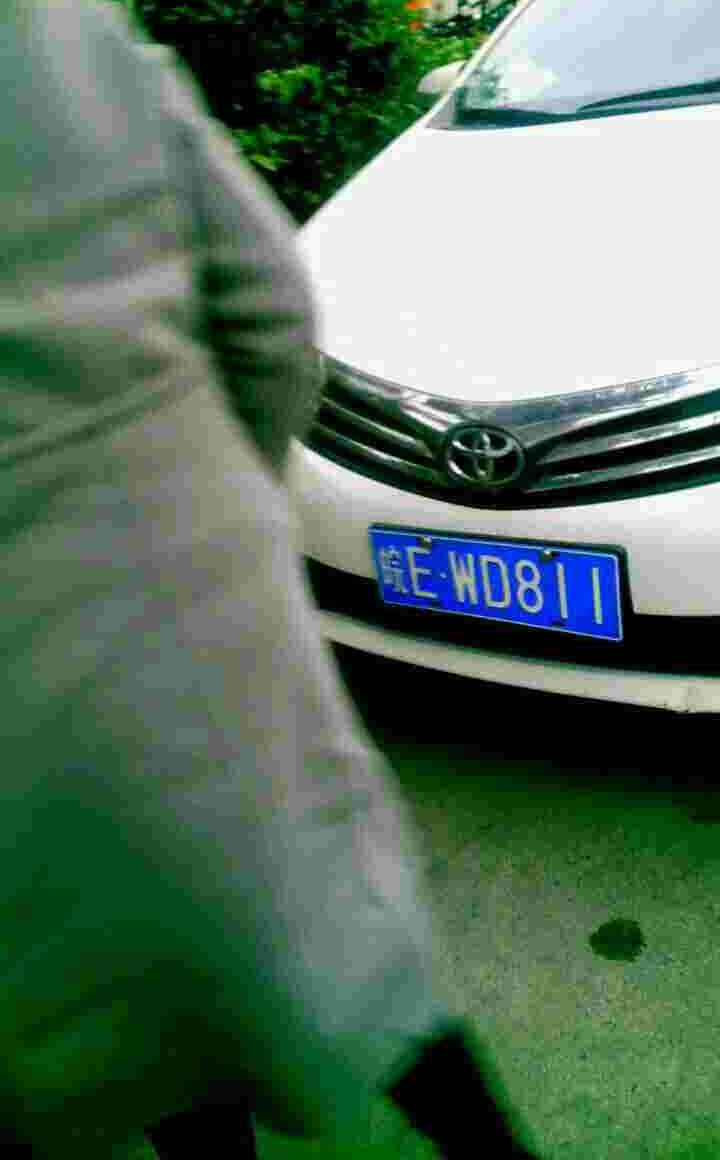car: (365, 534, 620, 634)
